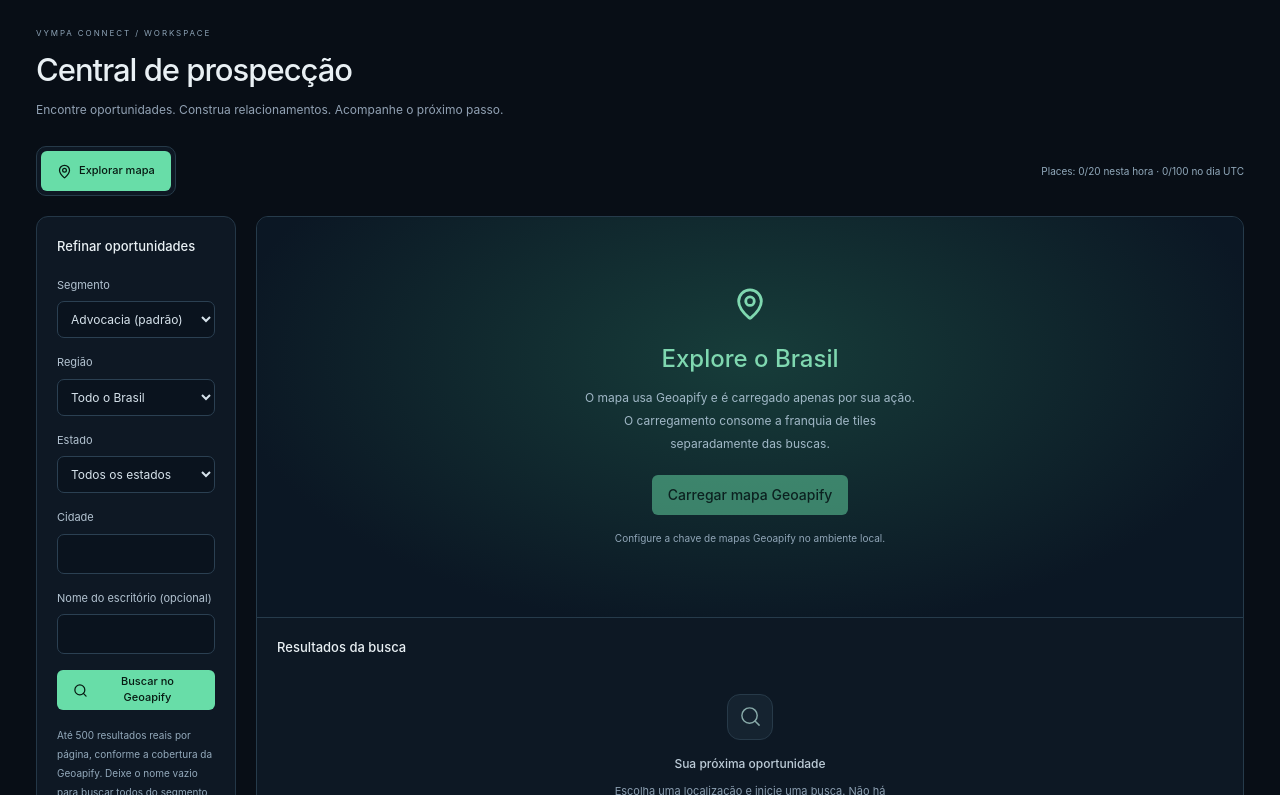
Scenario: não cadastra resultado sem nome como escritório confirmado
The image size is (1280, 795).
Click the button "Buscar no Geoapify": [136, 690] box [57,670,215,710]
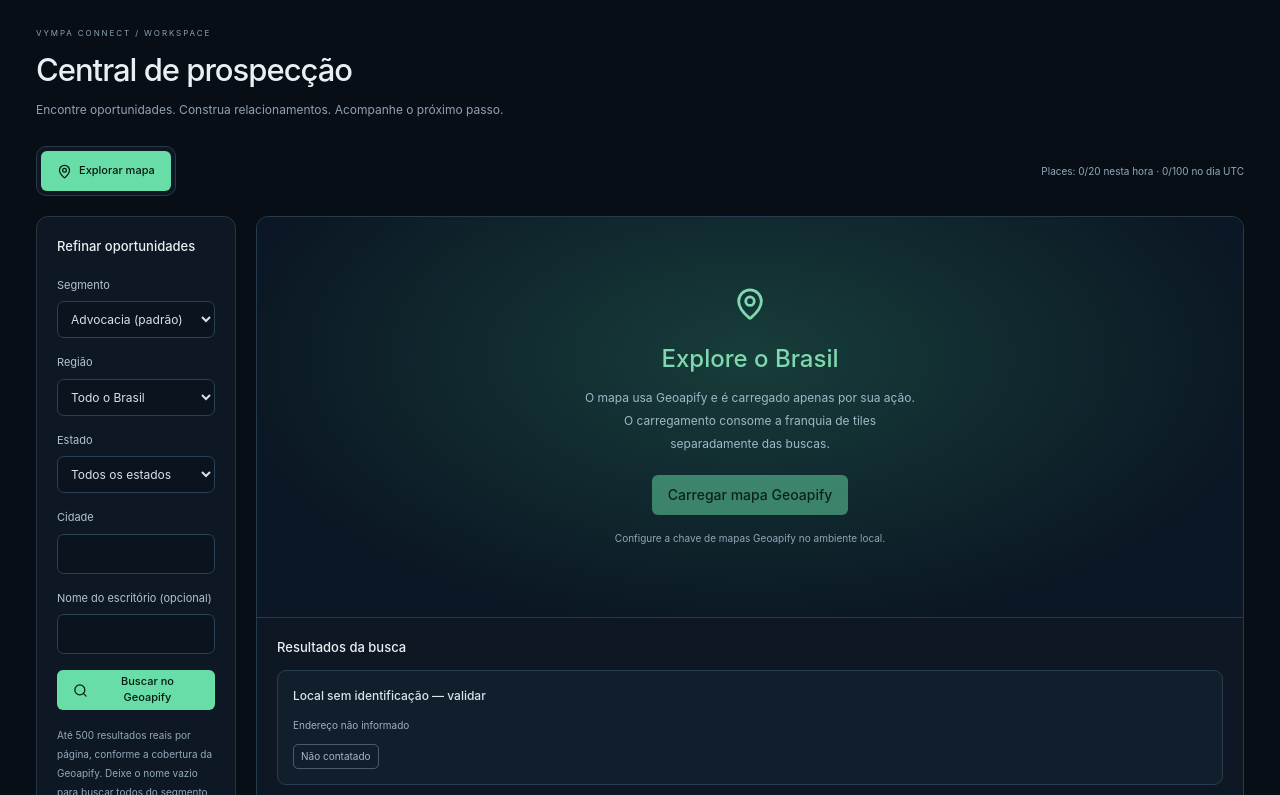
Click the button "Local sem identificação — validar": [389, 695] box [277,670,1223,785]
(page scrolled)
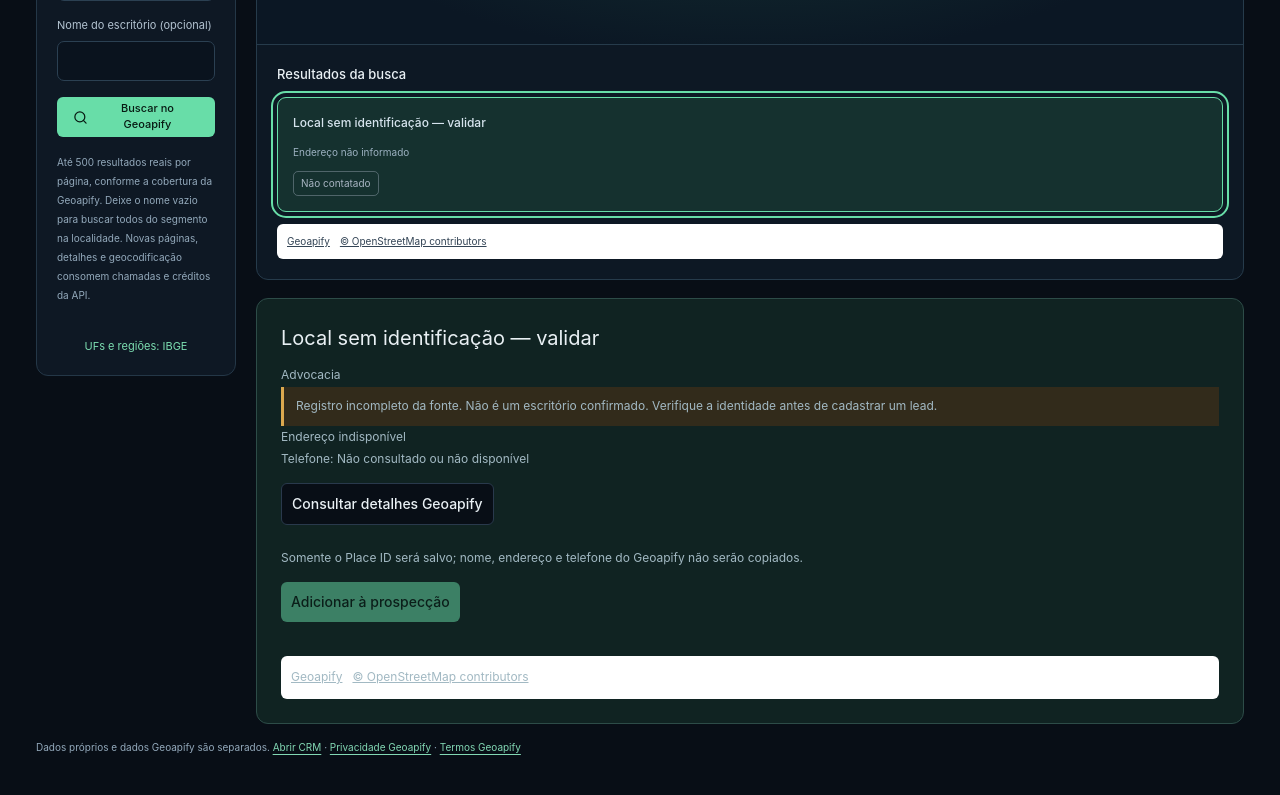
Expected: the text "Não é um escritório confirmado" is shown, [296,398,937,413]
Expected: the button "Adicionar à prospecção" is disabled, [281,582,460,622]
